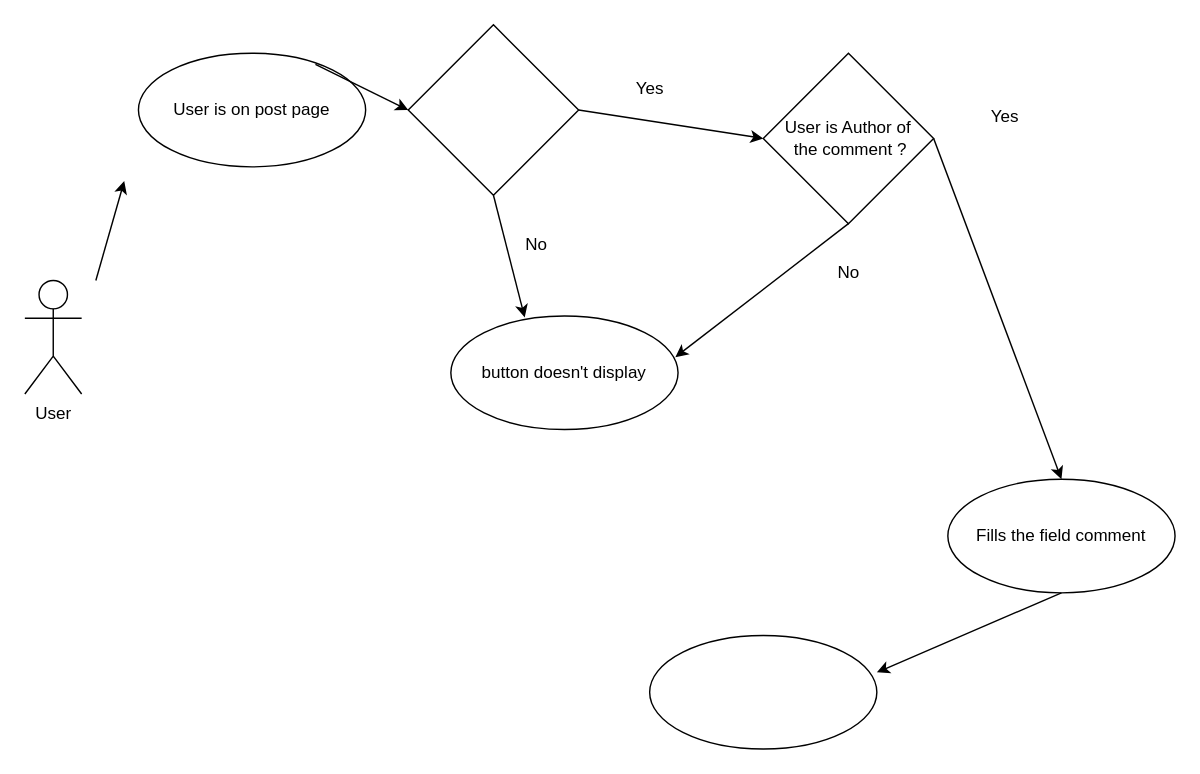
This 1200x774 diagram has some shape labels left out. Here are the shapes that lost their labels. From the top down, the centre of each, then its label:
At pixel 493 109: "User is logged in ?".
At pixel 762 691: "Comment is updated".
